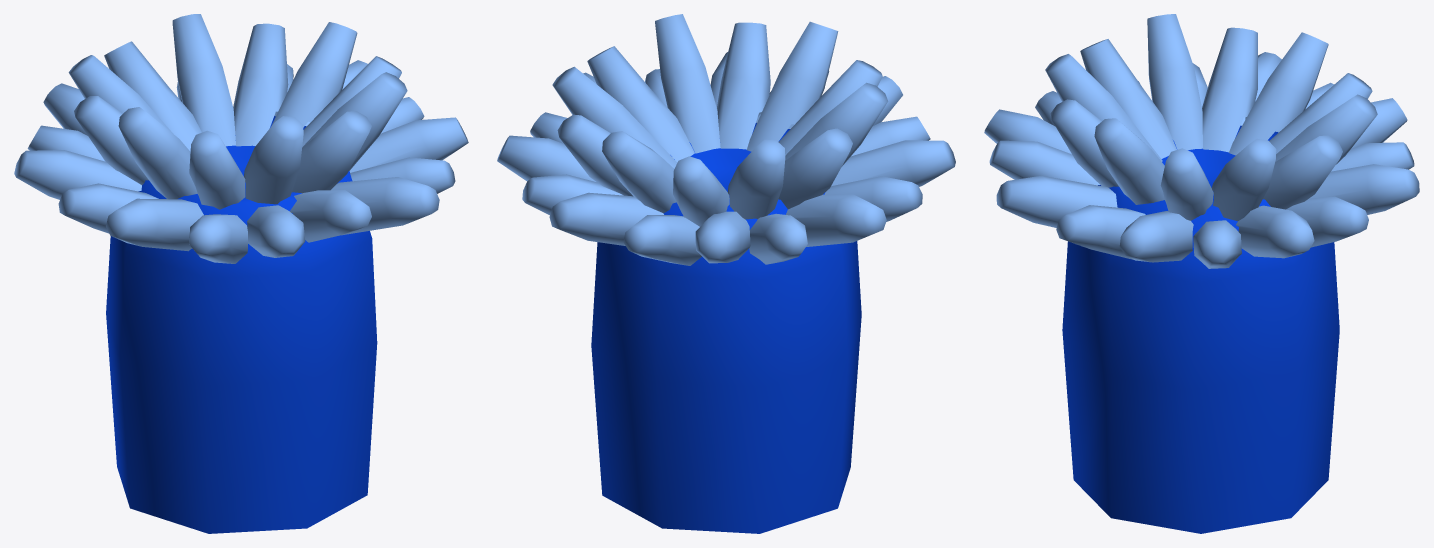
Rendered from Sea Anemone.fbx.
The picture shows the model from 3 angles, left to right: view 1: azimuth 30°, elevation 25°; view 2: azimuth 150°, elevation 25°; view 3: azimuth 270°, elevation 25°; orthographic projection.
Parts seen in each view (by area): view 1: Cylinder017; view 2: Cylinder017; view 3: Cylinder017.
Boxes of the visible parts, x1,y1,x2,y2 form: Cylinder017: (14, 14, 468, 533); Cylinder017: (497, 14, 955, 533); Cylinder017: (984, 14, 1419, 533).
Bounding box in the file's own units: 10.91 × 11.39 × 10.91.
